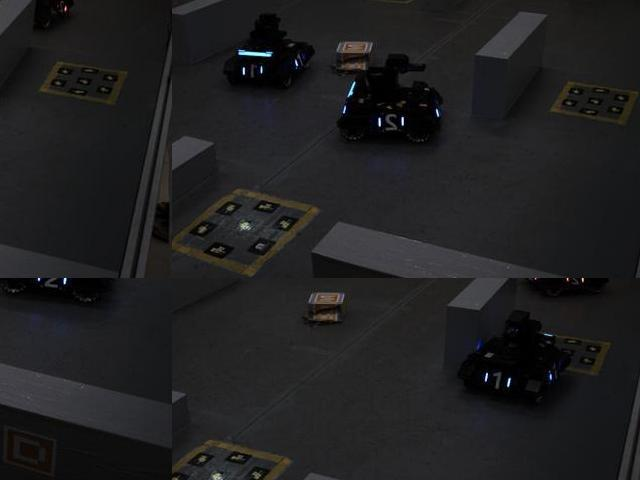armor: (374, 109, 406, 138), (481, 366, 514, 393), (238, 57, 269, 85), (35, 278, 71, 293), (290, 48, 308, 72), (51, 0, 71, 18), (562, 278, 590, 289), (523, 278, 542, 285)
